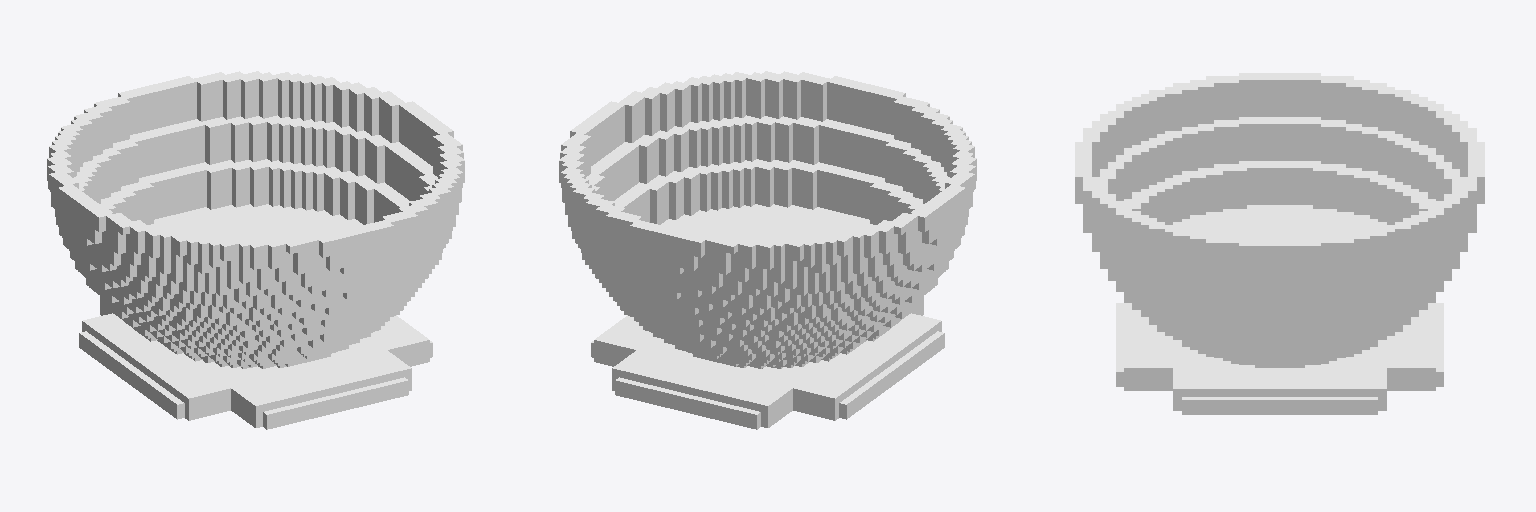
The model's file is fireplace.obj.
3 views of the same model, side by side, from view 1: azimuth 30°, elevation 25°; view 2: azimuth 150°, elevation 25°; view 3: azimuth 270°, elevation 25° (orthographic).
Bounding box in the file's own units: 50 × 26 × 50.